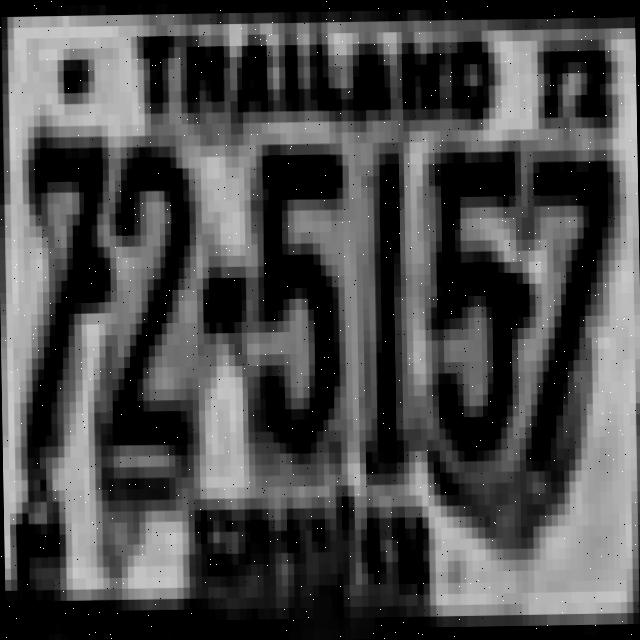1: (360, 148, 403, 468)
2: (92, 135, 190, 468)
5: (422, 140, 526, 451), (250, 138, 340, 448)
7: (517, 149, 615, 493), (9, 120, 107, 463)
NakhonPathom: (175, 487, 438, 621)
